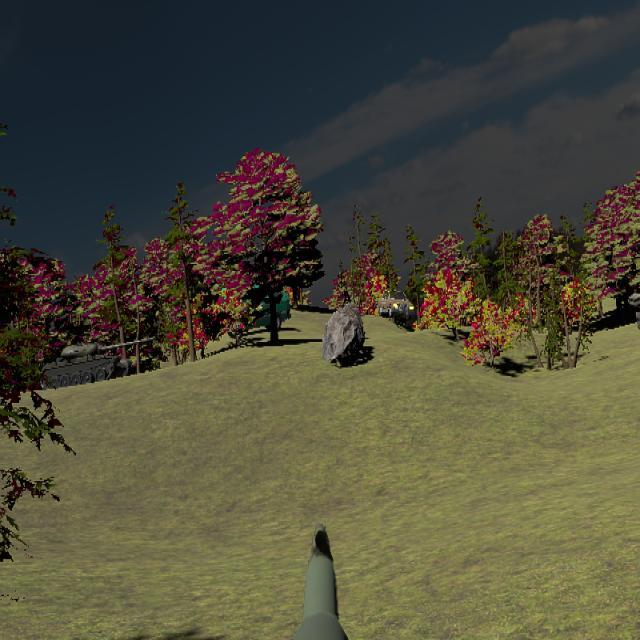Tank: (36, 338, 155, 392)
car: (378, 289, 415, 321)
